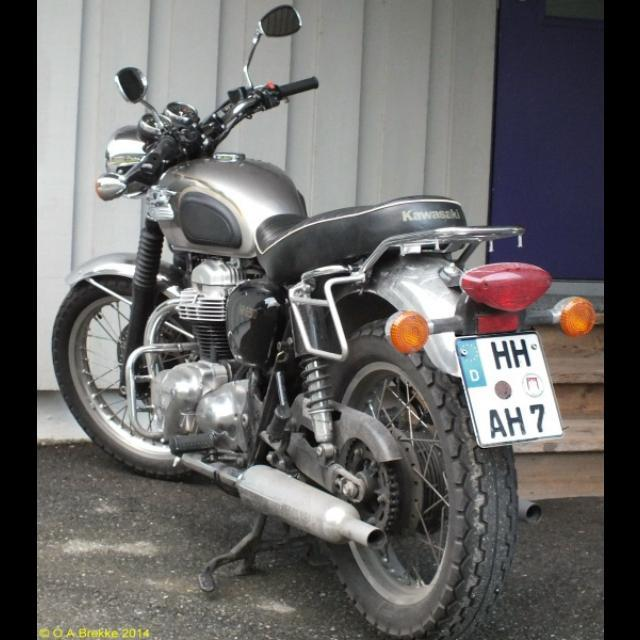license-plates: (457, 333, 564, 448)
